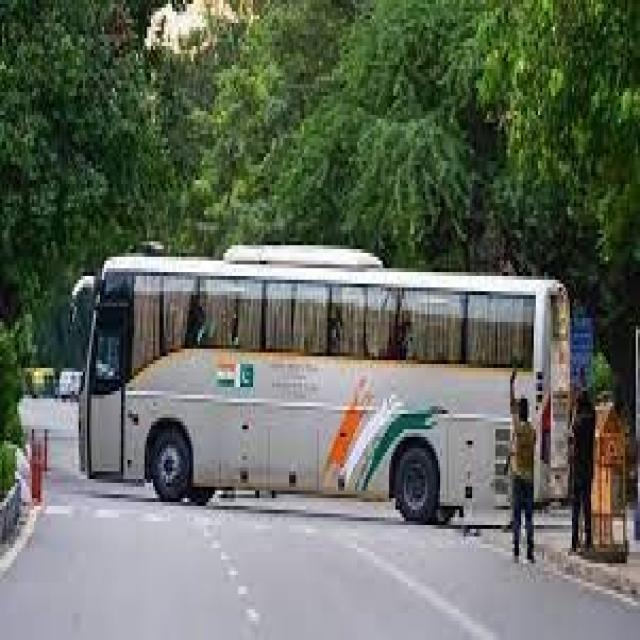bus: (66, 249, 593, 531)
